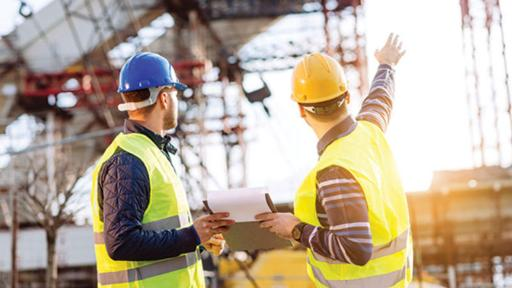hard hat: (289, 51, 352, 102), (116, 50, 193, 91)
